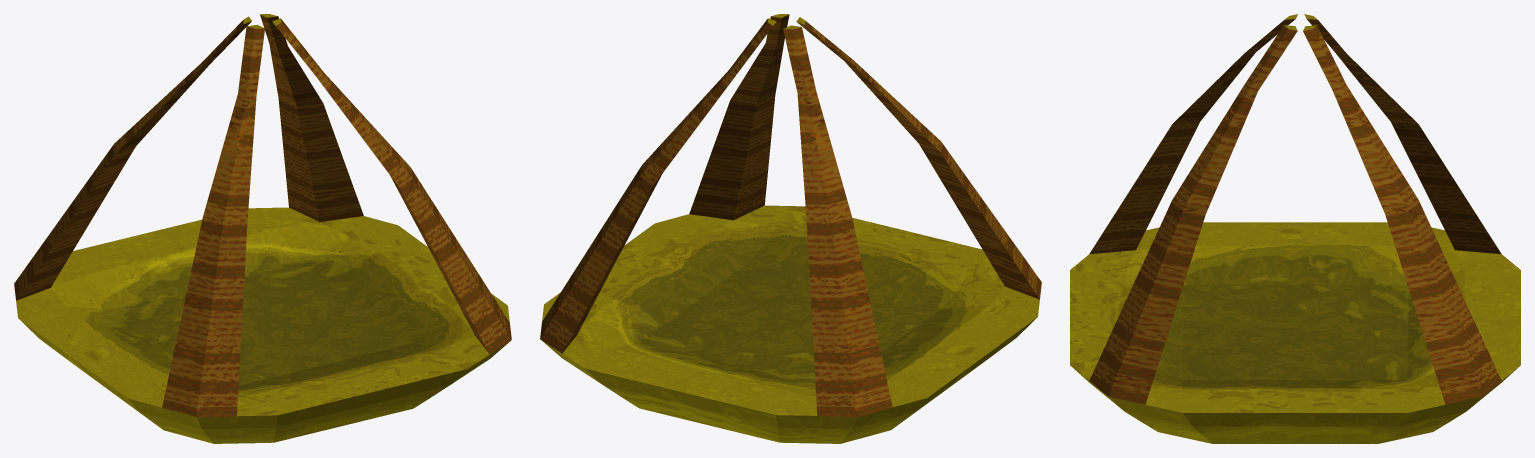
The model's file is weight_hold.fbx.
3 renders of one model, left to right at view 1: azimuth 30°, elevation 25°; view 2: azimuth 150°, elevation 25°; view 3: azimuth 270°, elevation 25°, orthographic. The views are drawn at different scales.
Visible parts, largest first — view 1: Cube.010; view 2: Cube.010; view 3: Cube.010.
Boxes of the visible parts, x1=… form: Cube.010: x1=14, y1=14, x2=511, y2=443; Cube.010: x1=540, y1=14, x2=1041, y2=443; Cube.010: x1=1070, y1=14, x2=1520, y2=443.
Bounding box in the file's own units: 582 × 520 × 582.
